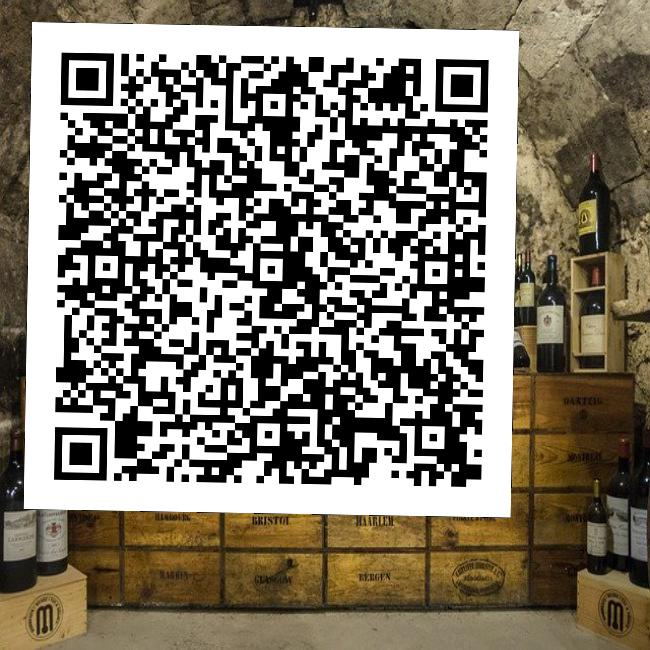qr_code: (23, 22, 518, 517)
